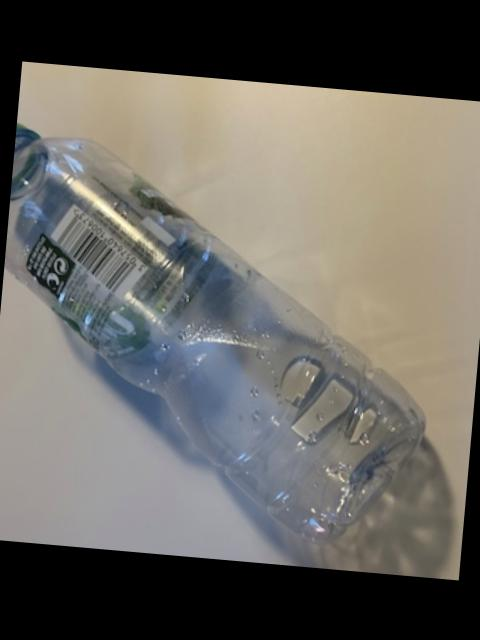plastic: (4, 124, 422, 541)
